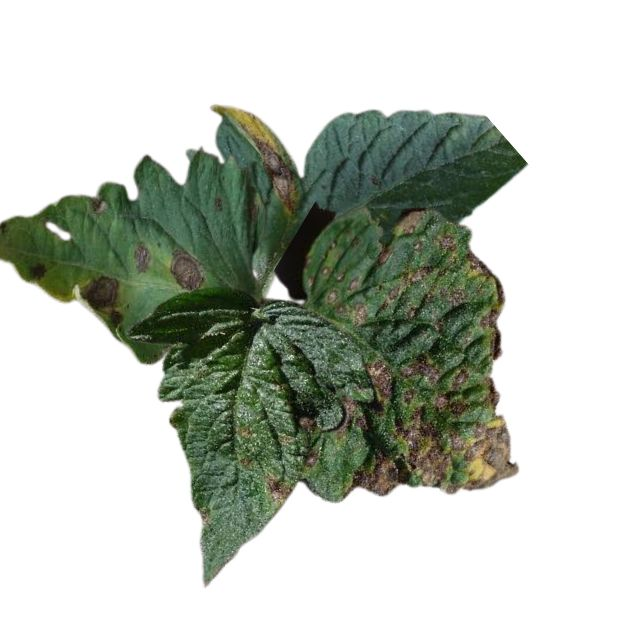Early_blight: (299, 209, 520, 495), (211, 101, 300, 217), (77, 275, 124, 324), (167, 249, 204, 293), (127, 242, 152, 277), (265, 477, 288, 503), (85, 191, 109, 214), (294, 411, 317, 431), (28, 259, 46, 279)
